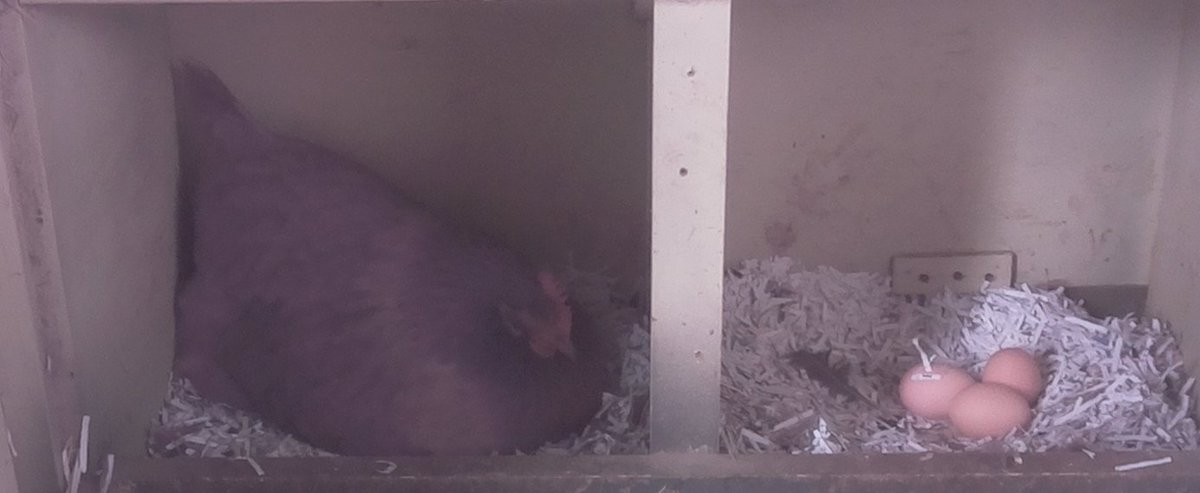egg: (947, 380, 1035, 440), (896, 360, 973, 422), (972, 345, 1046, 402)
hen: (164, 65, 620, 455)
